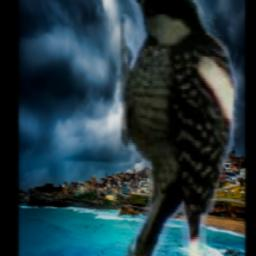Woodpecker: (120, 0, 237, 256)
